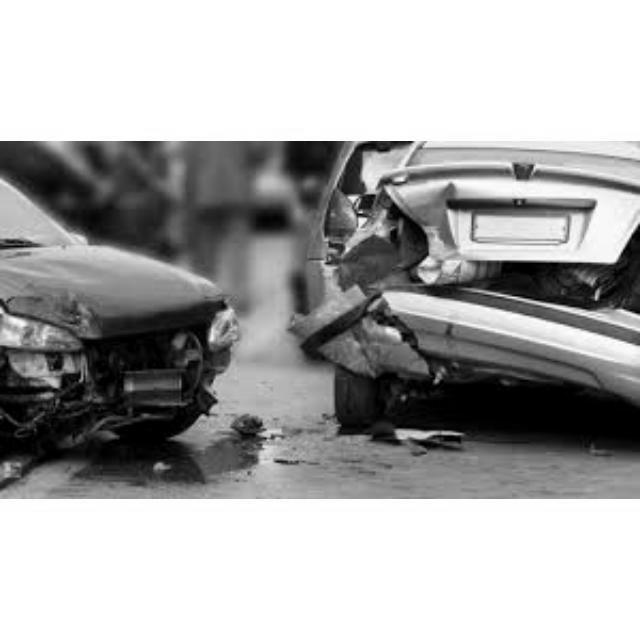Headlight-damage: (0, 315, 84, 353)
Taillight-Damage: (364, 213, 427, 273)
bonnet-dent: (1, 252, 228, 333)
boot-dent: (400, 169, 631, 304)
front-bumper-dent: (1, 353, 226, 440)
rear-bumper-dent: (310, 294, 441, 381)
